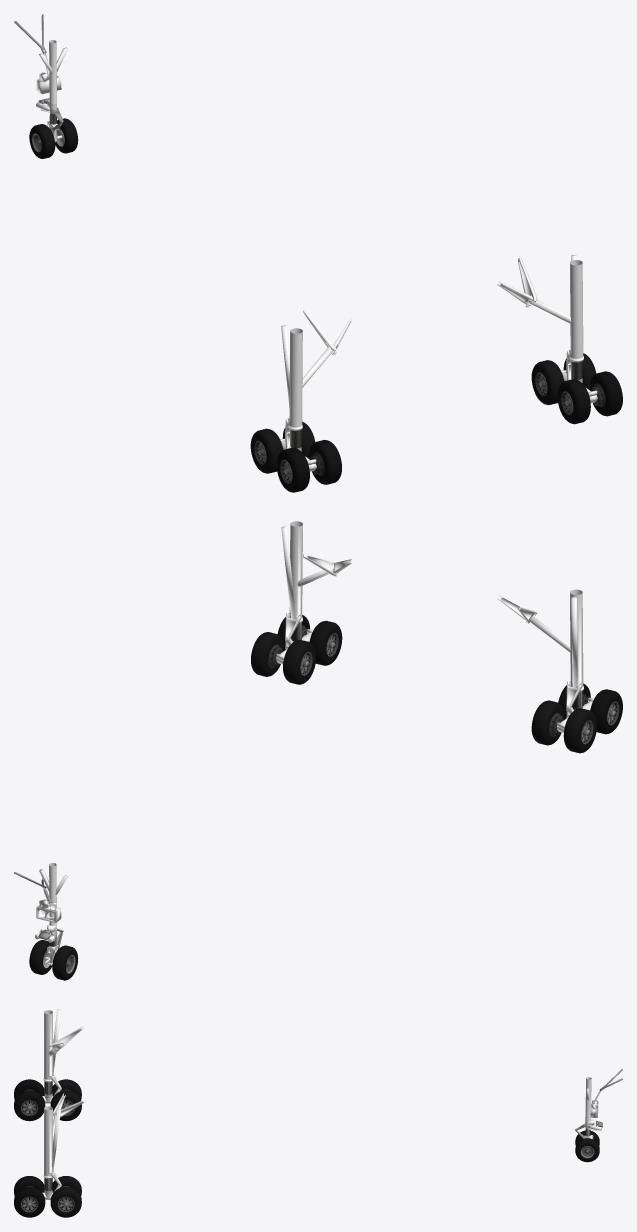
The picture shows the model from 3 angles, top to bottom: view 1: azimuth 30°, elevation 25°; view 2: azimuth 150°, elevation 25°; view 3: azimuth 270°, elevation 25°; orthographic projection. The views are drawn at different scales.
Parts seen in each view (by area): view 1: MainGr.Tires4, MainGr.Tires2, MainGear1.Strut, MainGr.Tires3, MainGr.Tires1, MainGear2.Strut, NoseGear.Tires, NoseGear.Strut; view 2: MainGr.Tires1, MainGr.Tires3, MainGear2.Strut, MainGr.Tires2, MainGr.Tires4, NoseGear.Tires, MainGear1.Strut, NoseGear.Strut; view 3: MainGr.Tires4, MainGr.Tires2, MainGr.Tires3, MainGear2.Strut, MainGr.Tires1, MainGear1.Strut, NoseGear.Tires, NoseGear.Strut.
Boxes of the visible parts, x1,y1,x2,y2 form: MainGr.Tires4: (557, 371, 622, 424); MainGr.Tires2: (276, 440, 341, 492); MainGear1.Strut: (281, 325, 302, 430); MainGr.Tires3: (531, 353, 596, 405); MainGr.Tires1: (250, 421, 315, 473); MainGear2.Strut: (569, 255, 583, 362); NoseGear.Tires: (29, 118, 78, 158); NoseGear.Strut: (36, 40, 67, 114); MainGr.Tires1: (531, 700, 596, 753); MainGr.Tires3: (251, 632, 316, 684); MainGear2.Strut: (281, 521, 302, 623); MainGr.Tires2: (558, 683, 622, 734); MainGr.Tires4: (277, 615, 342, 665); NoseGear.Tires: (29, 940, 78, 980); MainGear1.Strut: (568, 589, 583, 691); NoseGear.Strut: (35, 863, 67, 942); MainGr.Tires4: (14, 1176, 45, 1217); MainGr.Tires2: (14, 1079, 45, 1121); MainGr.Tires3: (50, 1176, 81, 1217); MainGear2.Strut: (43, 1106, 60, 1178); MainGr.Tires1: (50, 1079, 81, 1121); MainGear1.Strut: (43, 1009, 60, 1082); NoseGear.Tires: (575, 1130, 599, 1162); NoseGear.Strut: (585, 1077, 602, 1130).
Bounding box in the file's own units: 8.78 × 3.74 × 20.03.
Materials: 1 (1 with a texture image).
